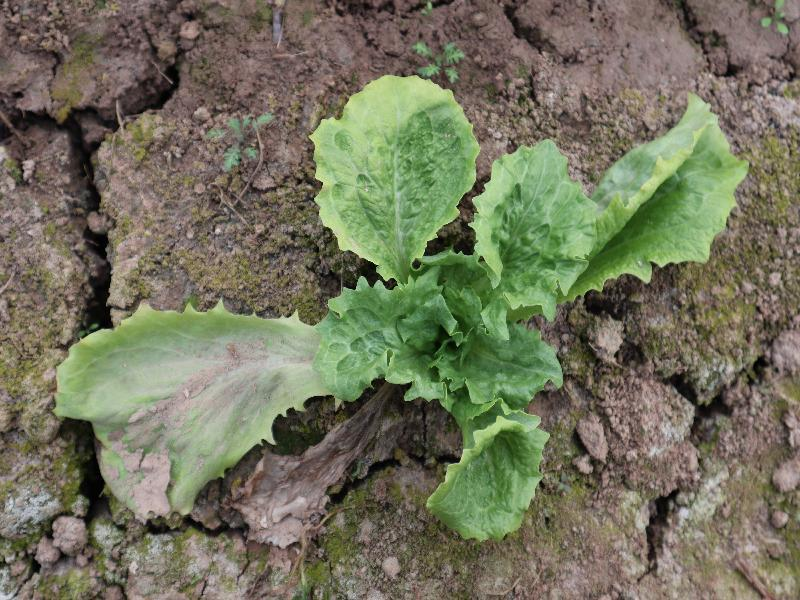lettuce: (53, 73, 748, 541)
